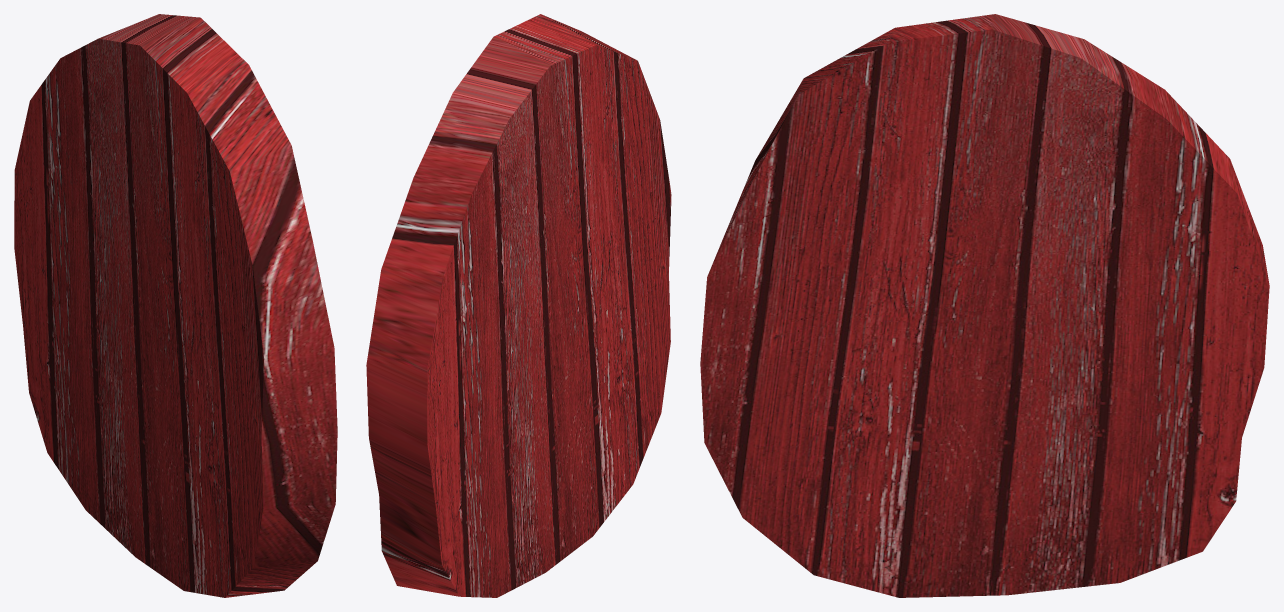
The model's file is puertaFachadaPicapiedras.obj.
3 views of the same model, side by side, from view 1: azimuth 30°, elevation 25°; view 2: azimuth 150°, elevation 25°; view 3: azimuth 270°, elevation 25° (orthographic). The views are drawn at different scales.
Visible parts, largest first — view 1: pasted__pasted__pasted__pCylinder3 pasted__pasted__group10 paste; view 2: pasted__pasted__pasted__pCylinder3 pasted__pasted__group10 paste; view 3: pasted__pasted__pasted__pCylinder3 pasted__pasted__group10 paste.
Boxes of the visible parts, bbox=[...] form: pasted__pasted__pasted__pCylinder3 pasted__pasted__group10 paste: bbox=[14, 14, 337, 597]; pasted__pasted__pasted__pCylinder3 pasted__pasted__group10 paste: bbox=[366, 14, 671, 597]; pasted__pasted__pasted__pCylinder3 pasted__pasted__group10 paste: bbox=[700, 14, 1269, 597].
Size of the model in its own units: 4.31 by 36.95 by 33.53.
Materials: 1 (1 with a texture image).
